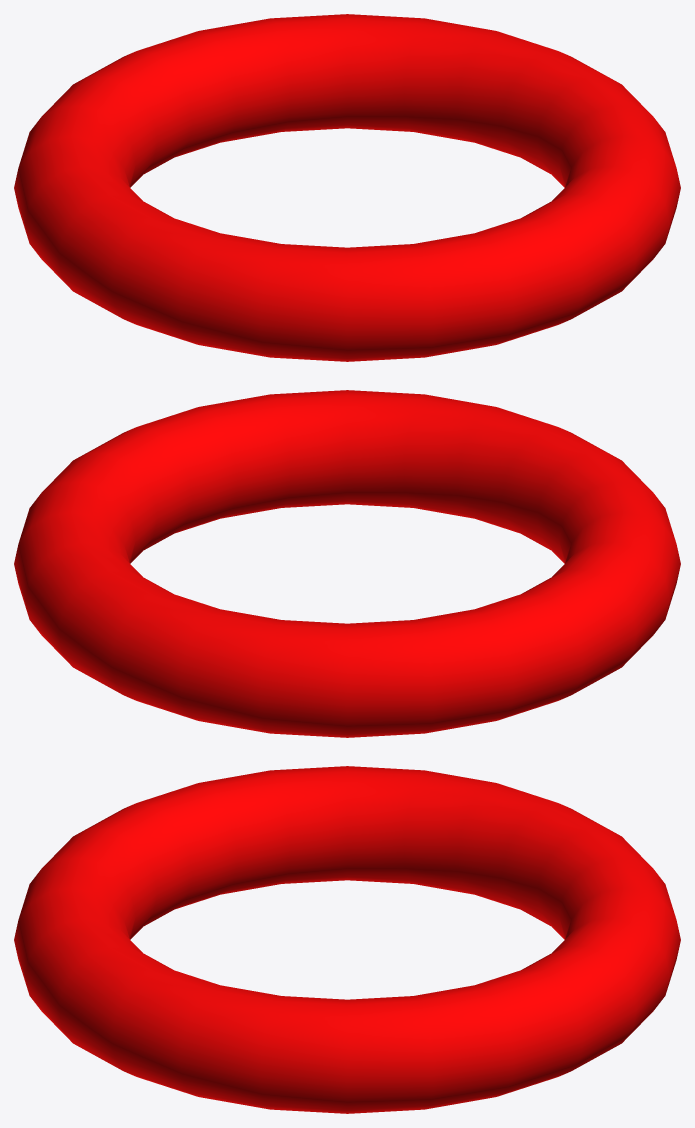
The model's file is Hoop.obj.
3 renders of one model, top to bottom at view 1: azimuth 30°, elevation 25°; view 2: azimuth 150°, elevation 25°; view 3: azimuth 270°, elevation 25°, orthographic.
Visible parts, largest first — view 1: Hoop; view 2: Hoop; view 3: Hoop.
Boxes of the visible parts, x1,y1,x2,y2 form: Hoop: [14, 14, 680, 361]; Hoop: [14, 390, 680, 737]; Hoop: [14, 766, 680, 1113].
Bounding box in the file's own units: 7 × 1.2 × 7.
